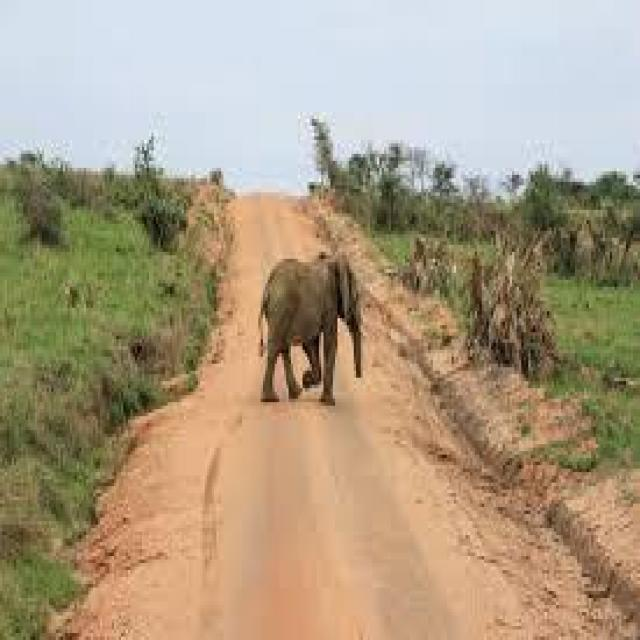Elephant: (240, 234, 375, 410)
